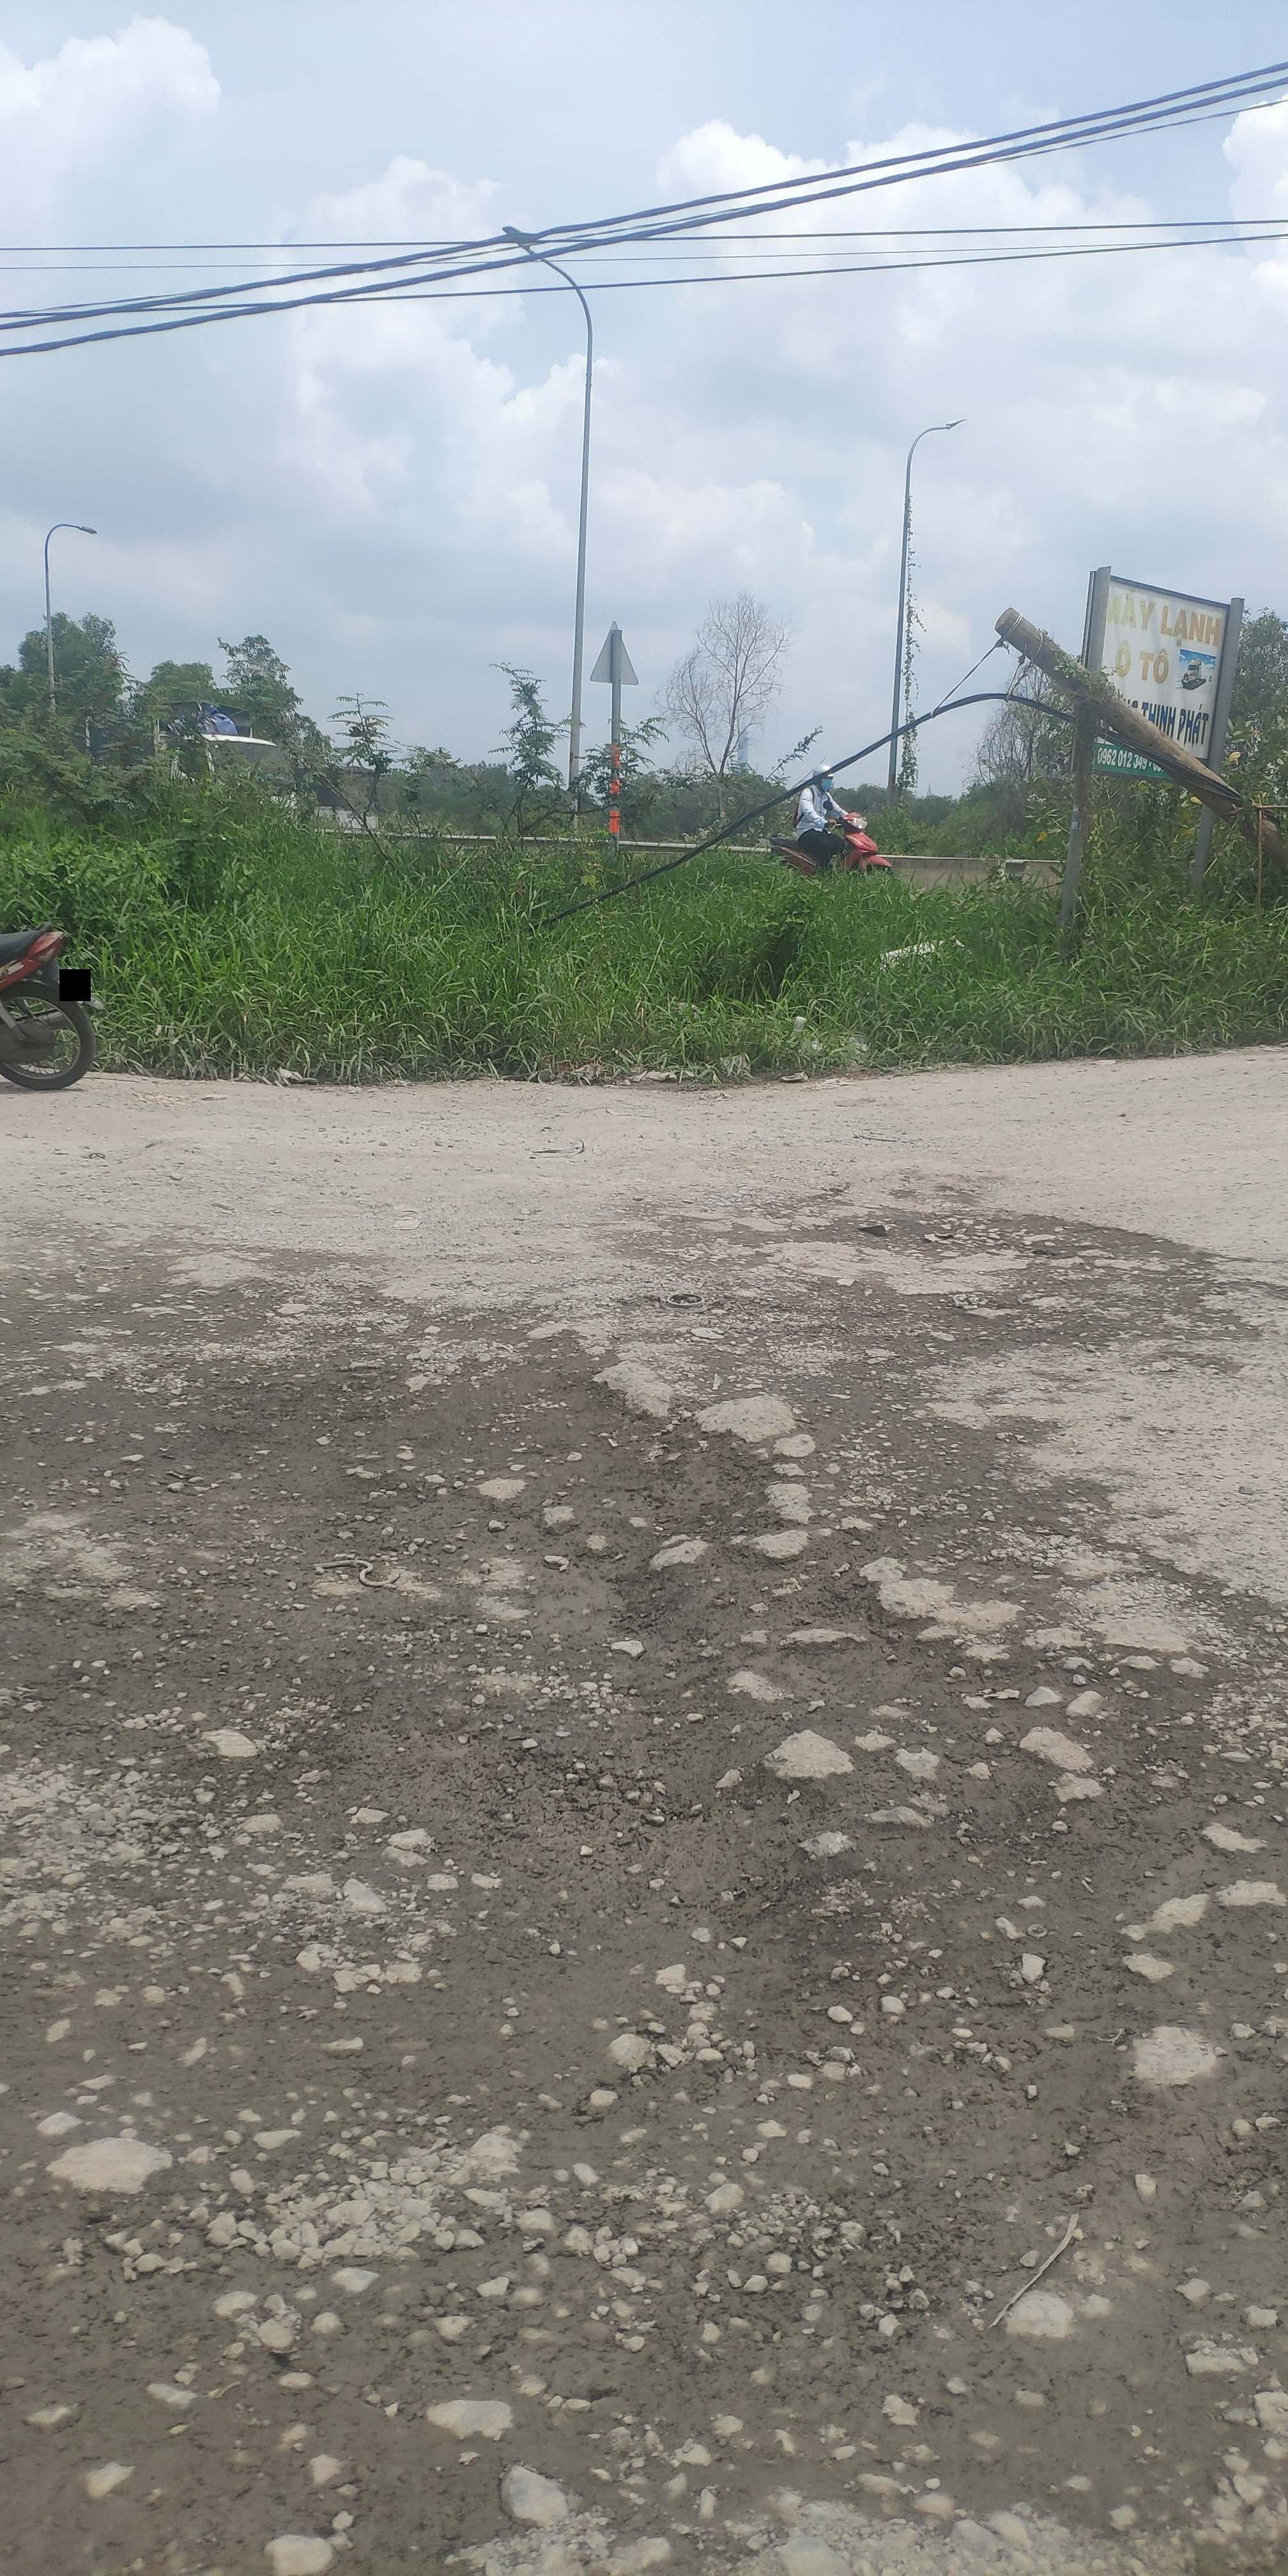hole: (3, 1276, 724, 1967)
